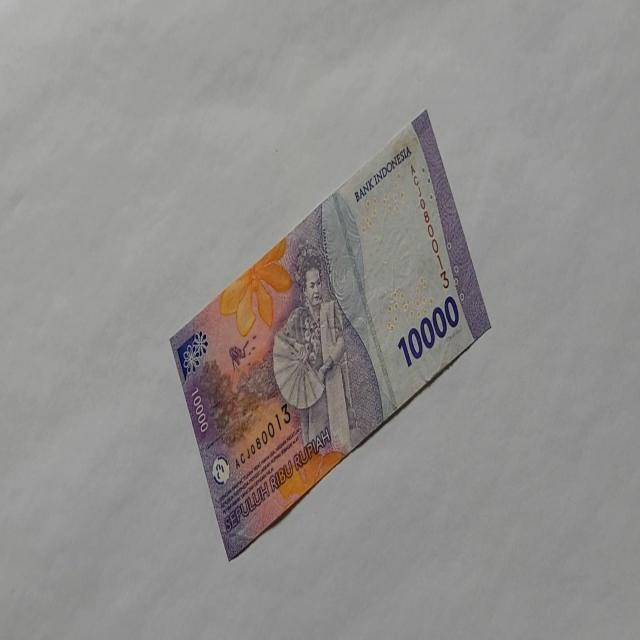sepuluh ribu rupiah: (168, 107, 492, 561), (396, 294, 459, 368), (352, 142, 412, 204)
